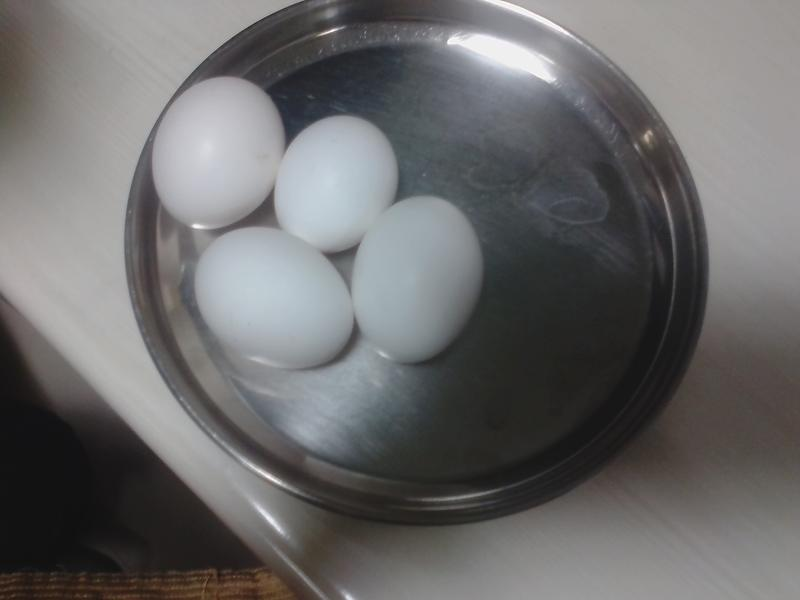egg: (193, 232, 354, 367)
